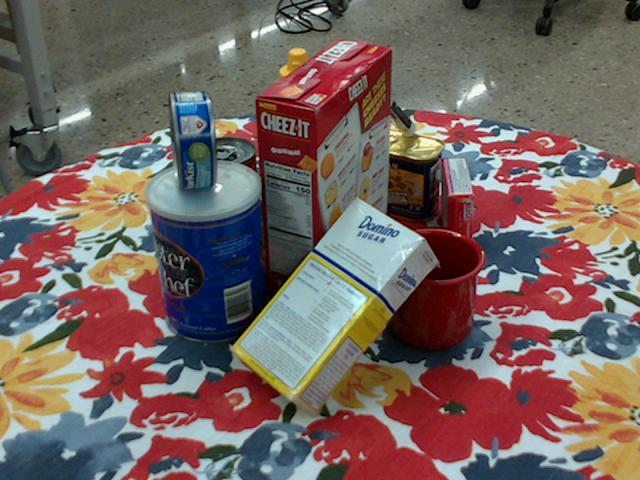cracker_box: (253, 40, 392, 311)
gelatin_box: (441, 156, 473, 254)
large_marker: (366, 81, 415, 135)
master_chef_can: (147, 161, 266, 346)
mug: (355, 227, 484, 349)
mustard_bottle: (260, 48, 345, 222)
potted_meat_can: (351, 125, 444, 221)
sugar_box: (231, 198, 437, 421)
tomato_soup_can: (192, 136, 261, 248)
tuna_fish_can: (167, 91, 217, 190)
